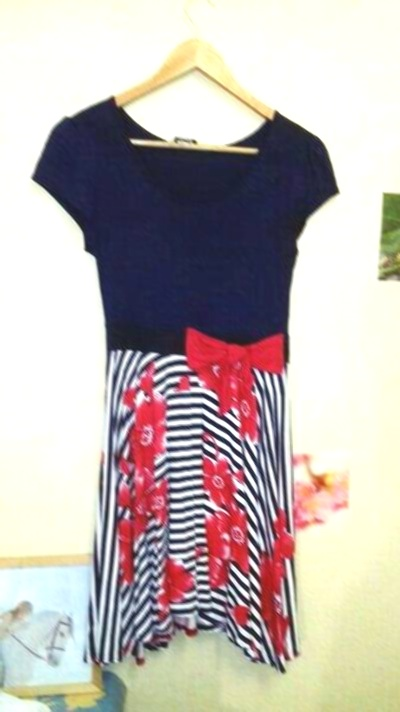Dress: (12, 69, 356, 686)
